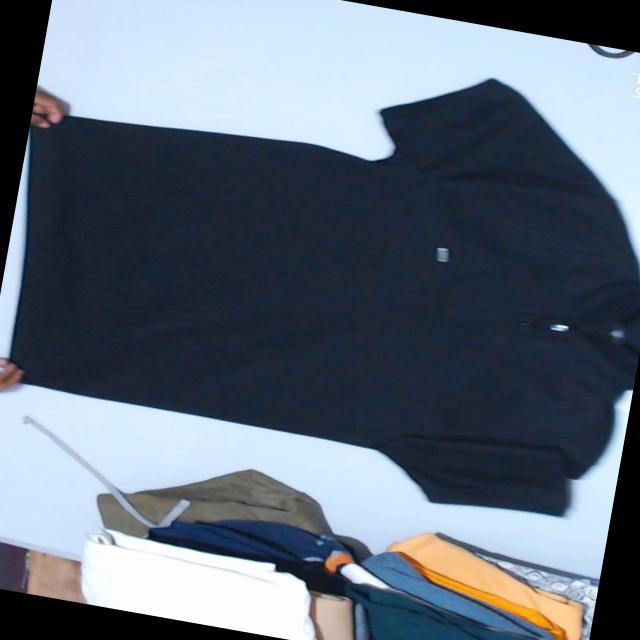new-garment: (12, 79, 640, 514)
